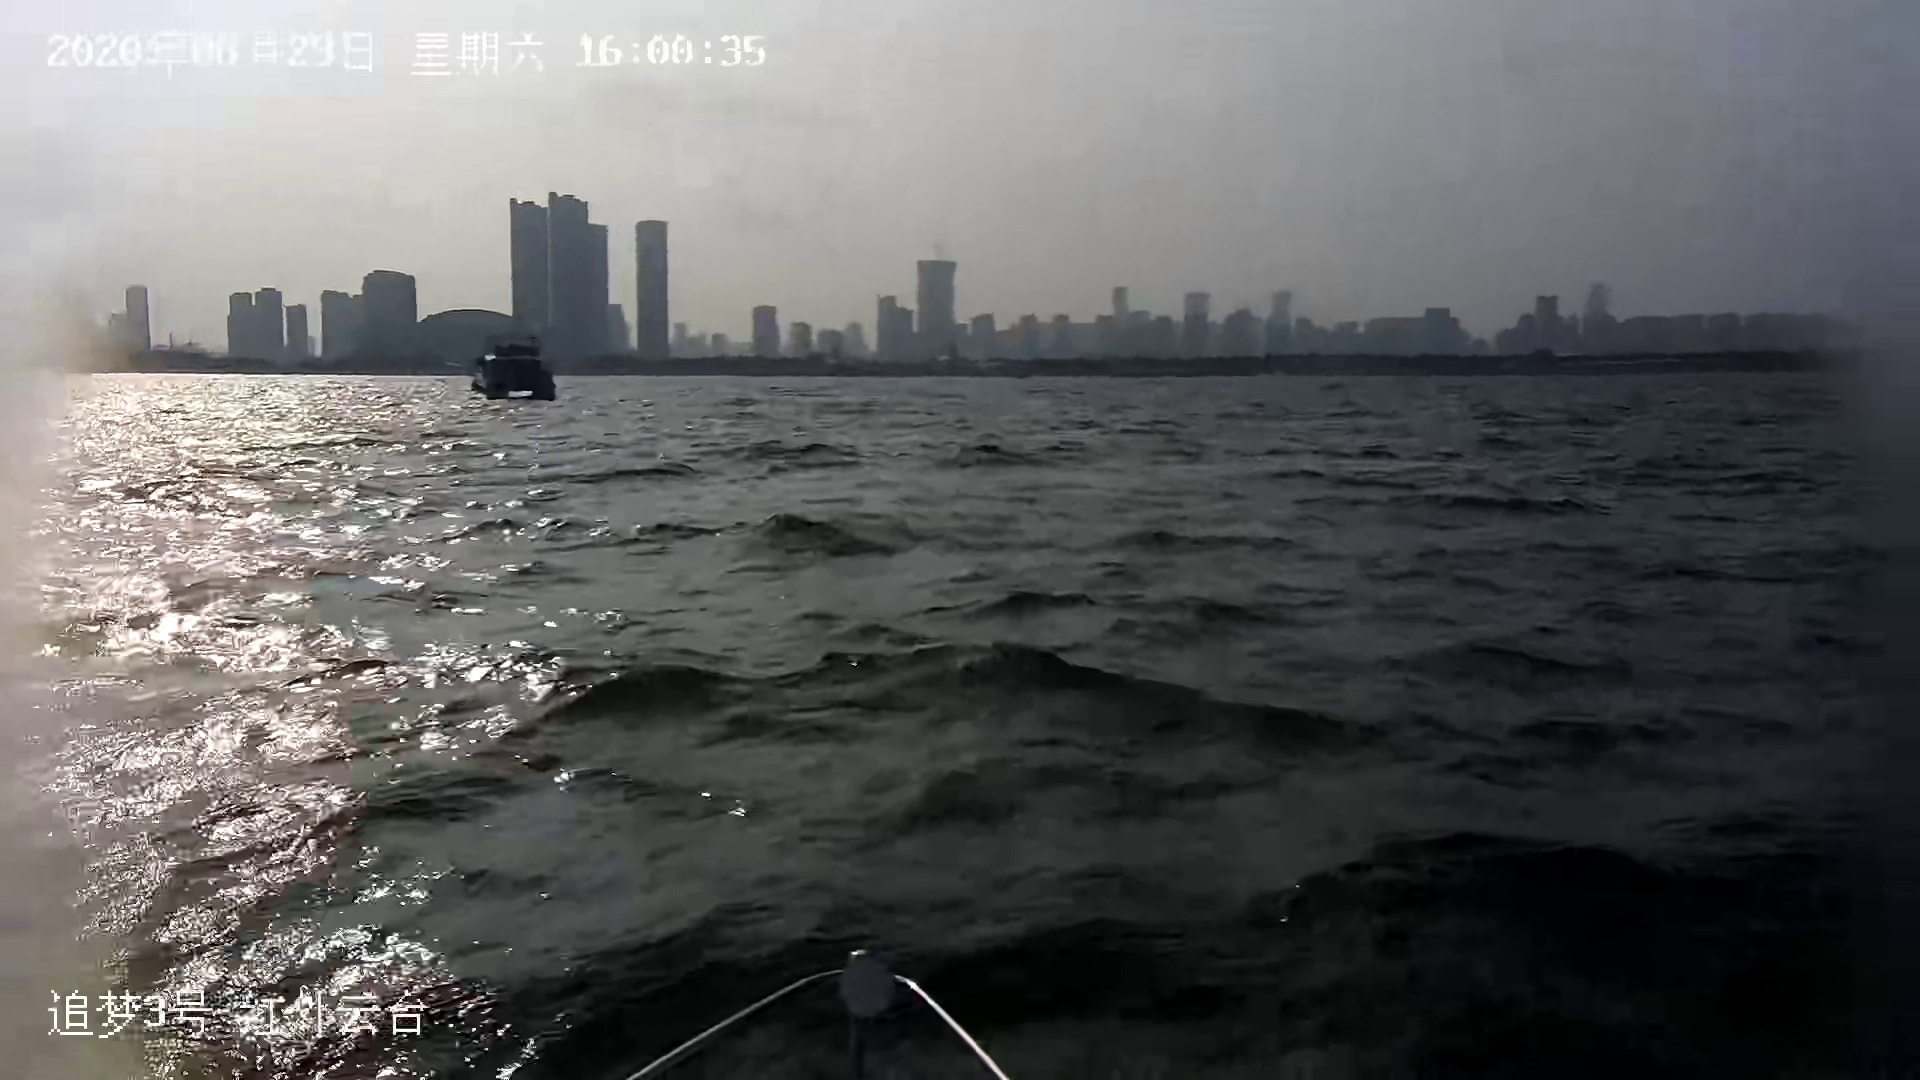barrier: (462, 335, 558, 404)
coast: (54, 193, 1851, 378)
